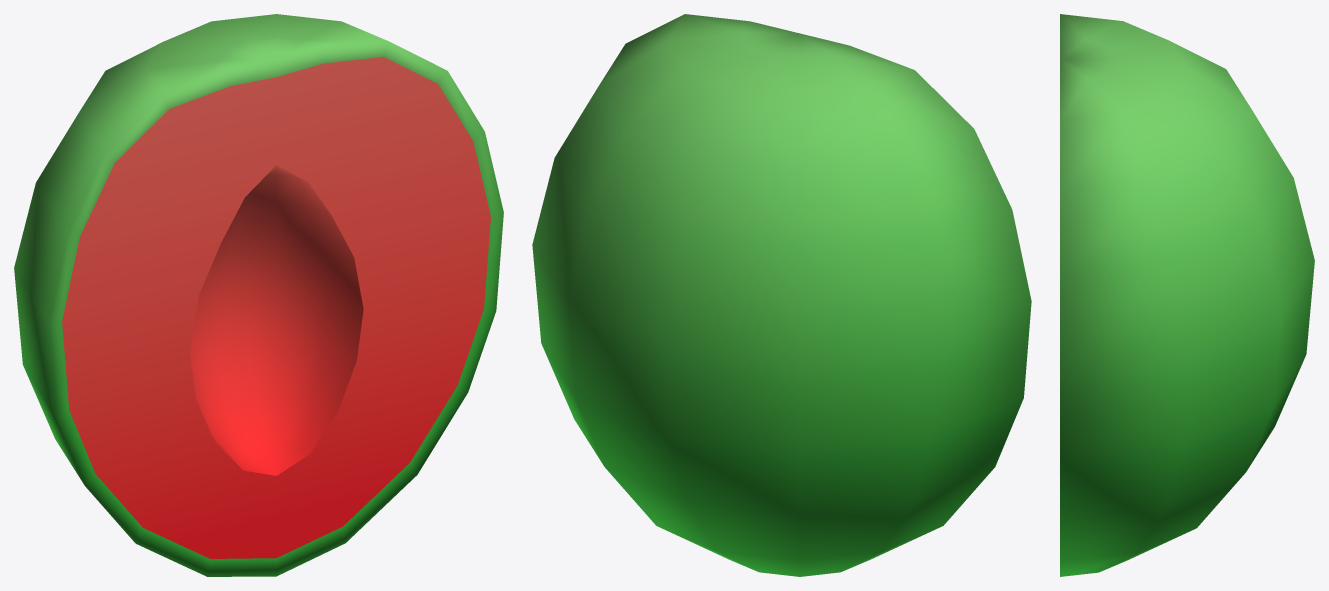
File: Plum_half_01_red.fbx
3 views of the same model, side by side, from view 1: azimuth 30°, elevation 25°; view 2: azimuth 150°, elevation 25°; view 3: azimuth 270°, elevation 25° (orthographic). The views are drawn at different scales.
Parts seen in each view (by area): view 1: Plum_half_01_red; view 2: Plum_half_01_red; view 3: Plum_half_01_red.
Part boxes in pixels (x1=…): Plum_half_01_red: x1=14, y1=14, x2=503, y2=576; Plum_half_01_red: x1=532, y1=14, x2=1031, y2=576; Plum_half_01_red: x1=1060, y1=14, x2=1314, y2=576.
Size of the model in its own units: 72.29 by 78.38 by 36.14.
